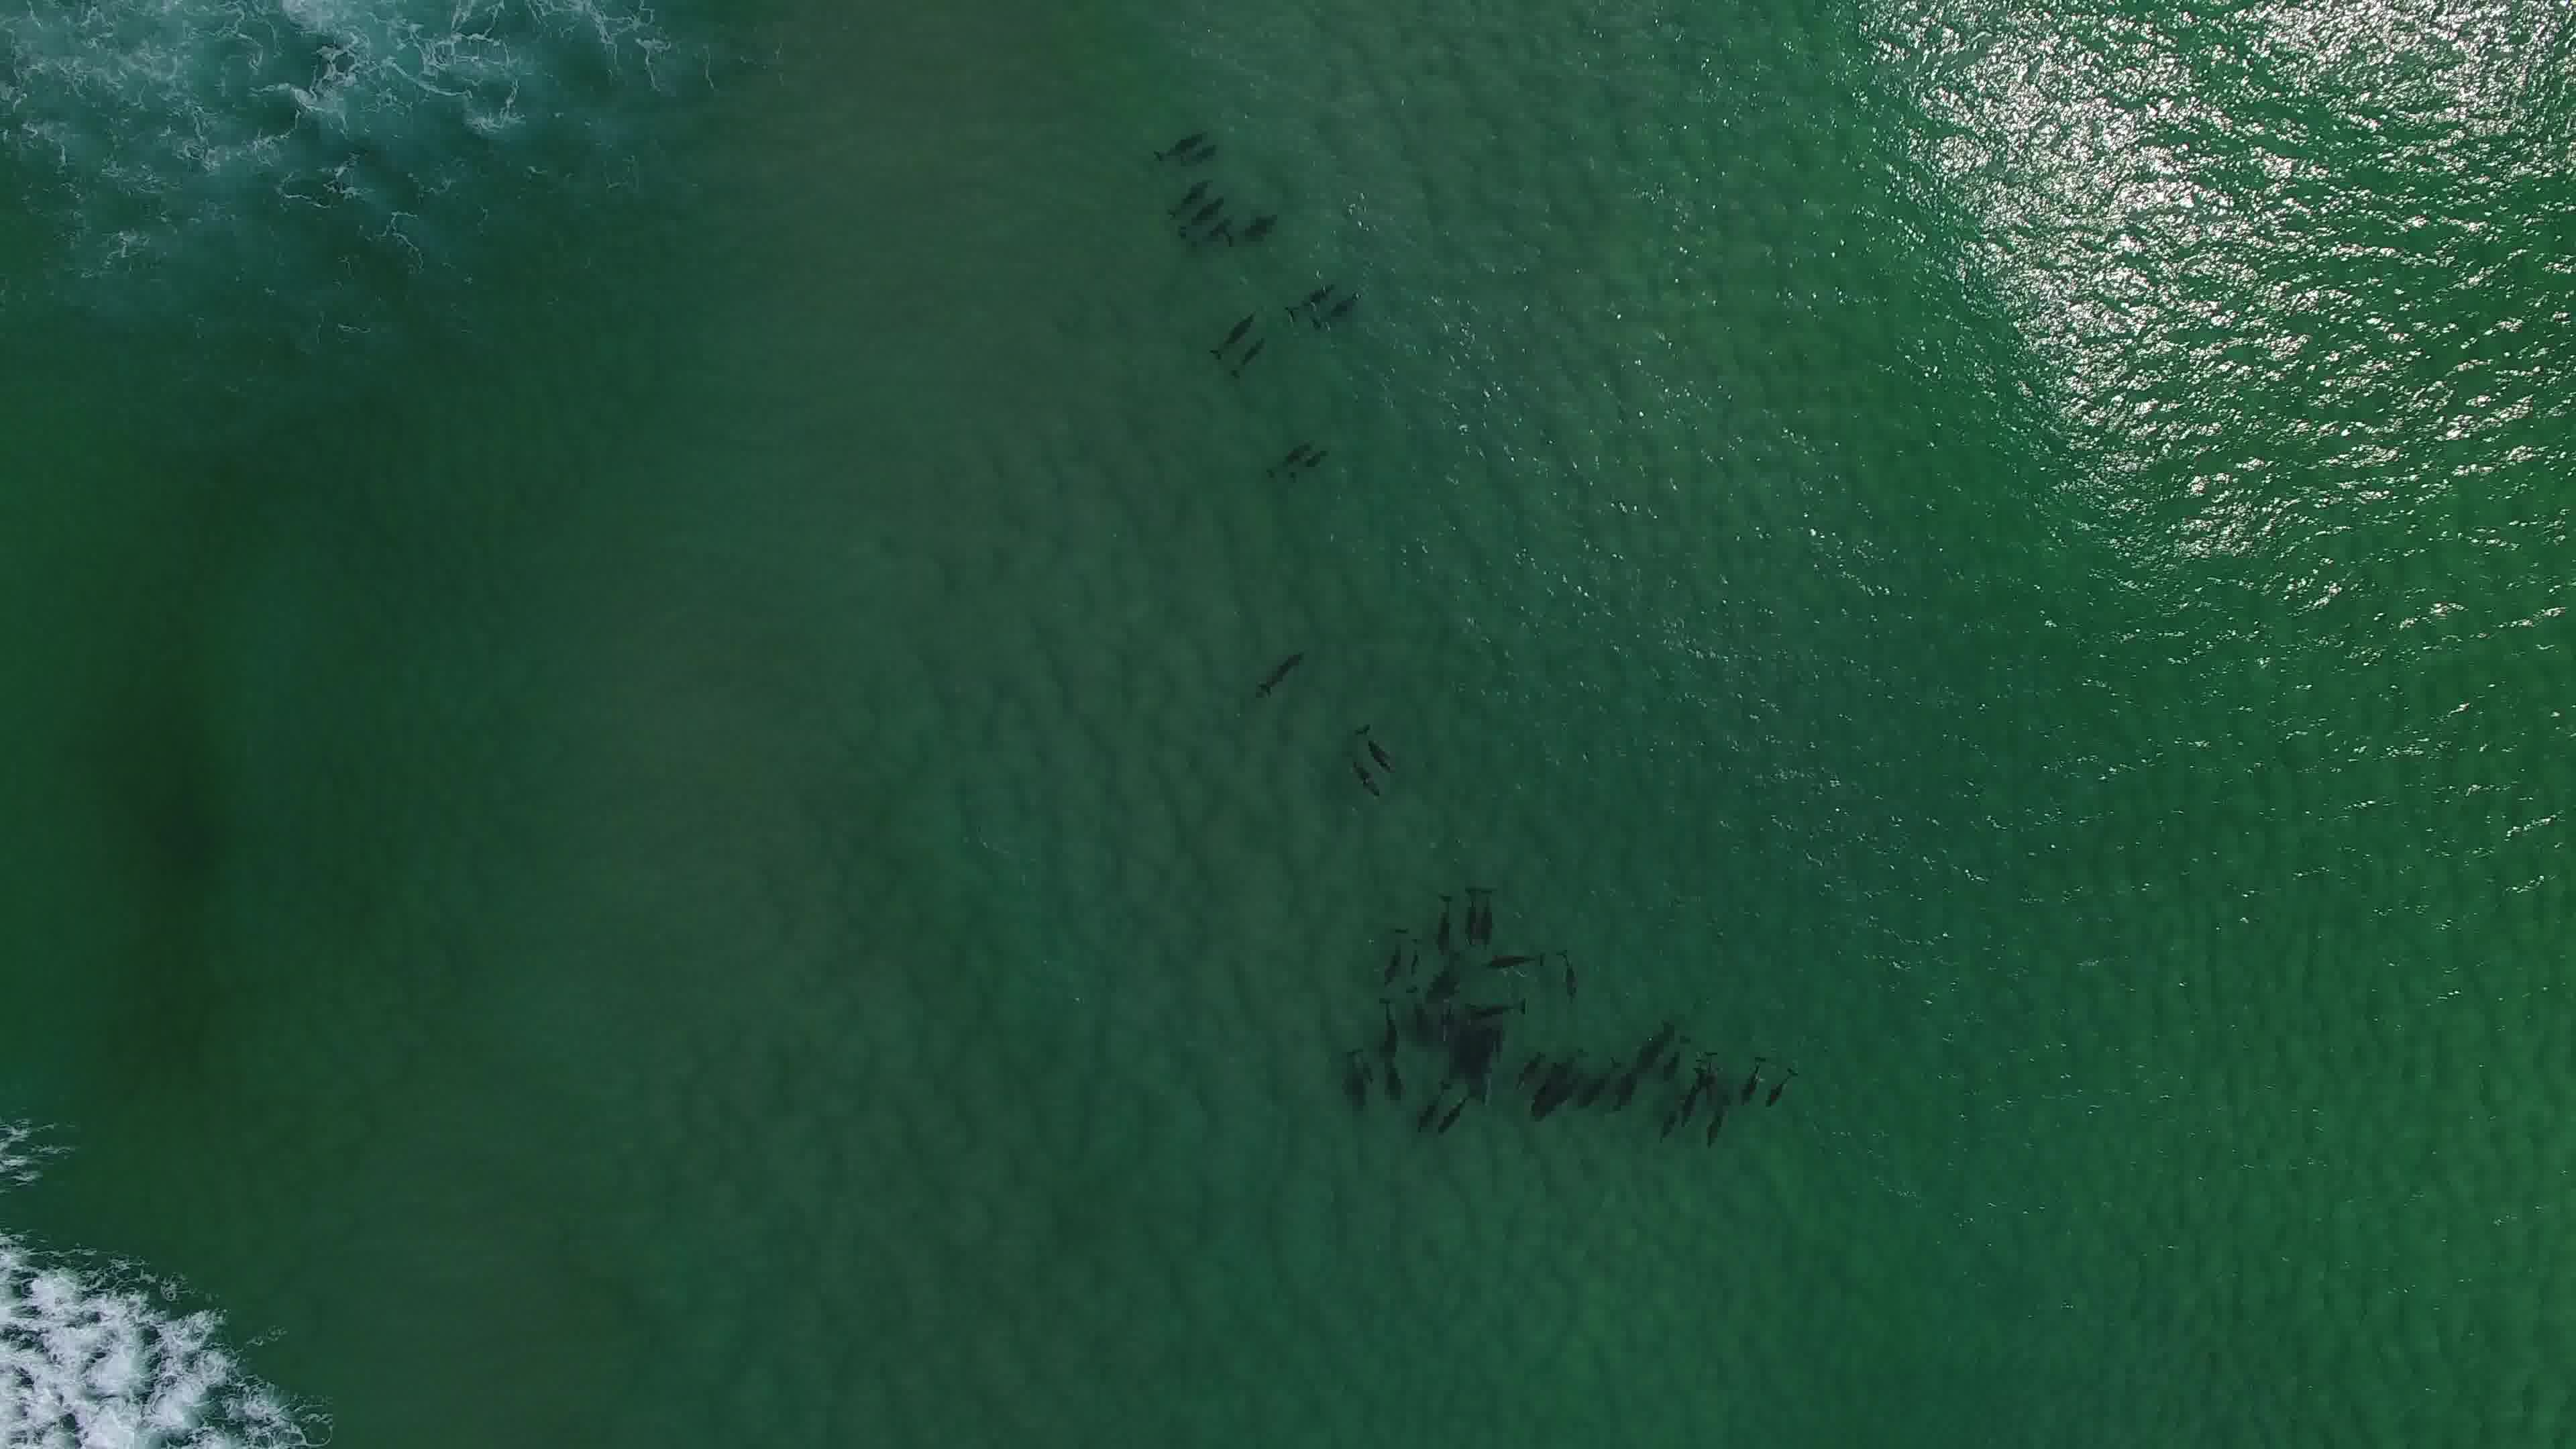dolphin: (1191, 297, 1256, 356), (1247, 644, 1311, 702), (1346, 713, 1399, 778), (1327, 752, 1387, 807), (1230, 198, 1292, 248), (1281, 258, 1334, 315), (1219, 329, 1276, 380), (1465, 994, 1537, 1031), (1146, 124, 1214, 163), (1534, 1065, 1580, 1122), (1334, 1039, 1371, 1106), (1576, 1047, 1615, 1111), (1610, 1049, 1647, 1111), (1373, 987, 1407, 1053), (1428, 886, 1460, 955), (1189, 211, 1238, 255), (1644, 1021, 1688, 1069), (1161, 173, 1217, 211), (1675, 1058, 1704, 1132), (1766, 1058, 1801, 1116), (1479, 950, 1552, 978), (1376, 927, 1414, 982), (1732, 1047, 1769, 1102), (1410, 1069, 1440, 1132), (1707, 1081, 1732, 1155), (1511, 1040, 1546, 1092), (1438, 1090, 1472, 1143), (1557, 932, 1582, 1001), (1173, 189, 1226, 221), (1376, 1049, 1408, 1102), (1318, 292, 1359, 333), (1461, 874, 1483, 947), (1431, 994, 1460, 1047), (1412, 993, 1438, 1049), (1272, 433, 1315, 467), (1290, 453, 1336, 481), (1180, 143, 1224, 170), (1481, 881, 1497, 950), (1702, 1046, 1725, 1093)
